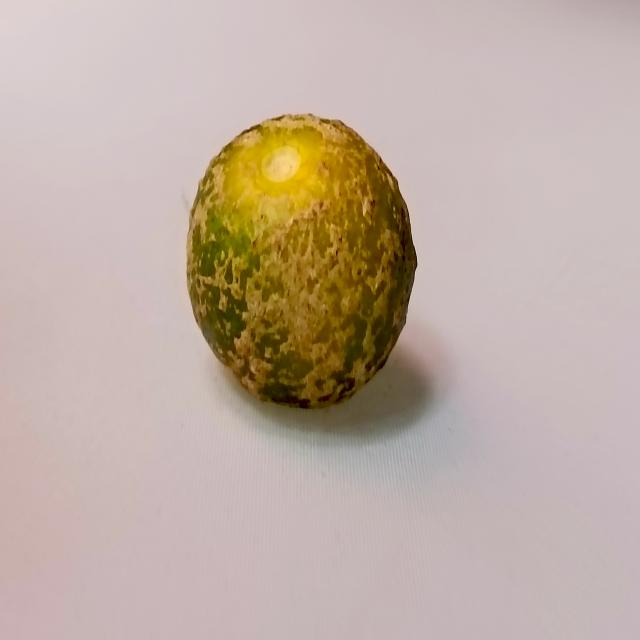scab: (181, 114, 421, 406)
